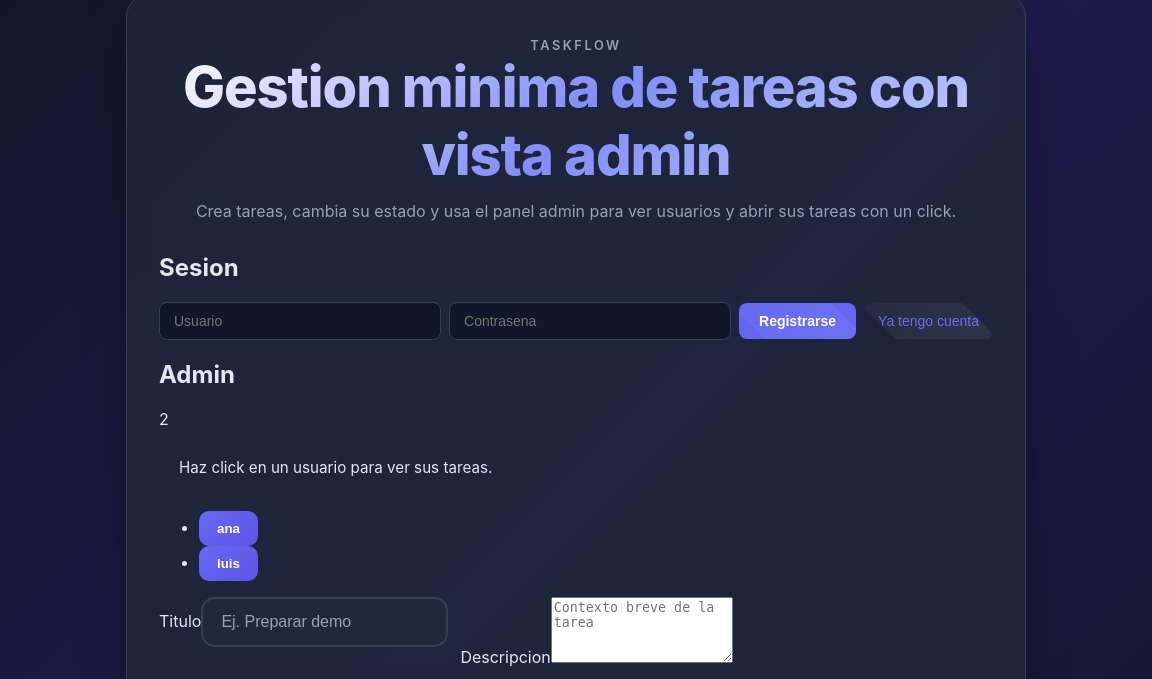
Test: App › permite ver tareas de un usuario desde la vista admin
Click the button "luis": (228, 563) [199,546,258,581]
(page scrolled)
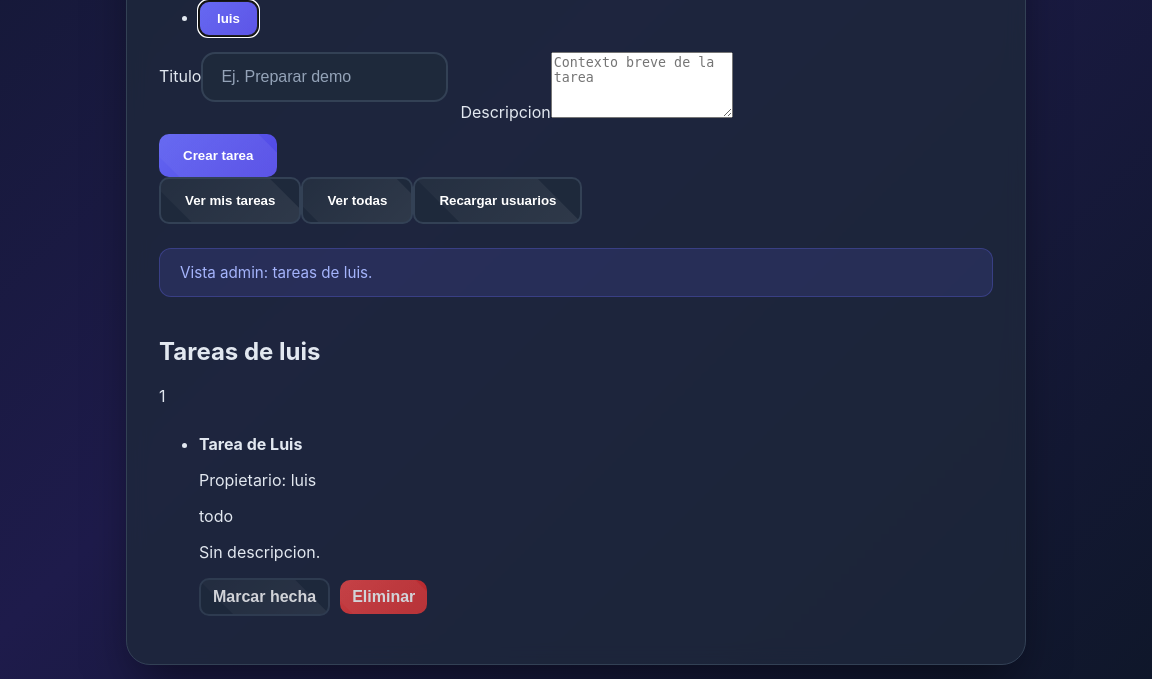
Expected: the text "Tarea de Luis" is shown, [199,434,302,454]
Expected: the heading "Tareas de luis" is shown, [159,337,320,366]
